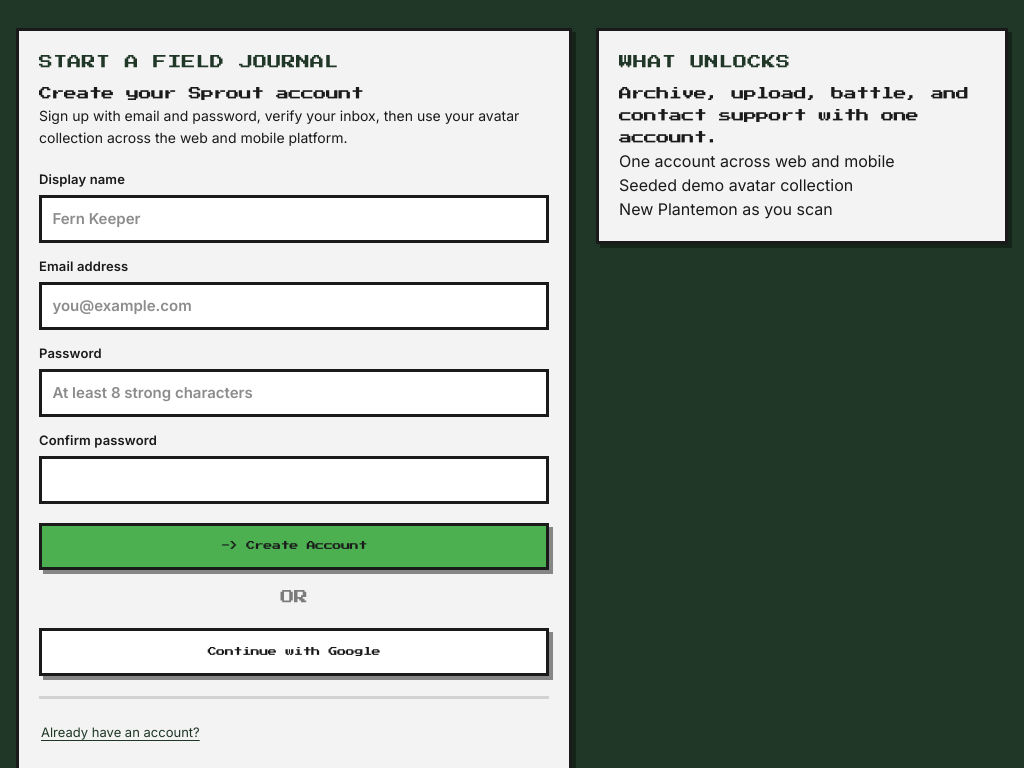
Scenario: SignupPage success screen › confirms the account and points at login
Type "Ada" into the field labelled "Display name". click: (294, 219)
box: left=39, top=195, right=549, bottom=243
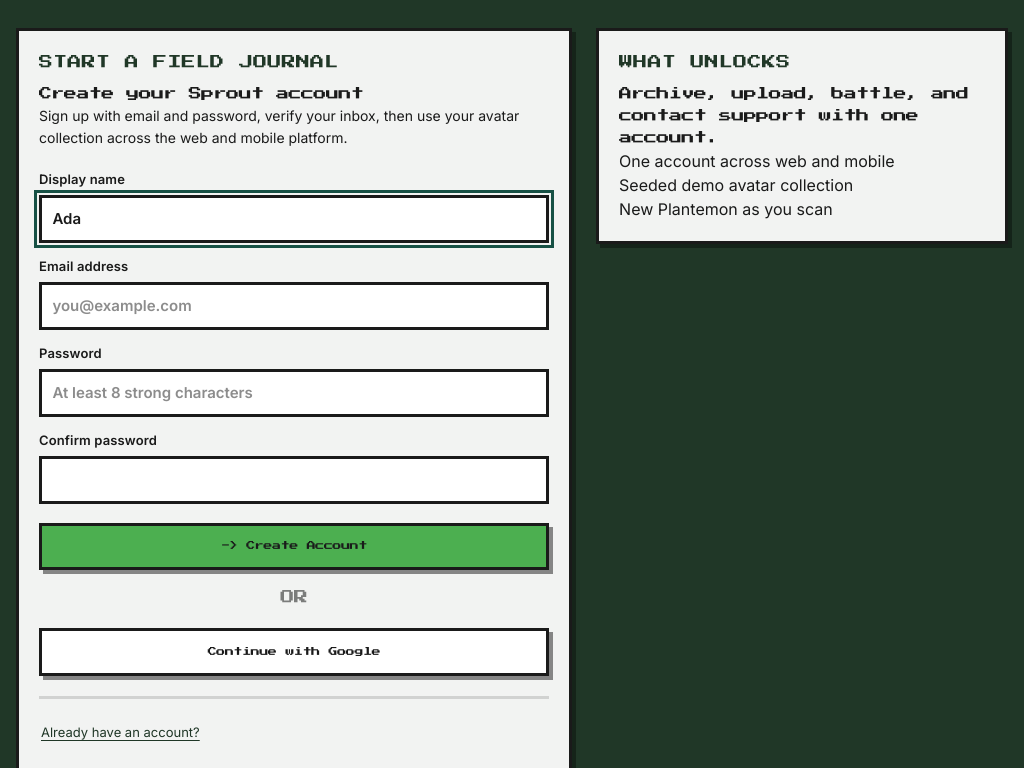
Type "ada@example.com" into the field labelled "Email address". click: (294, 306)
box: left=39, top=282, right=549, bottom=330
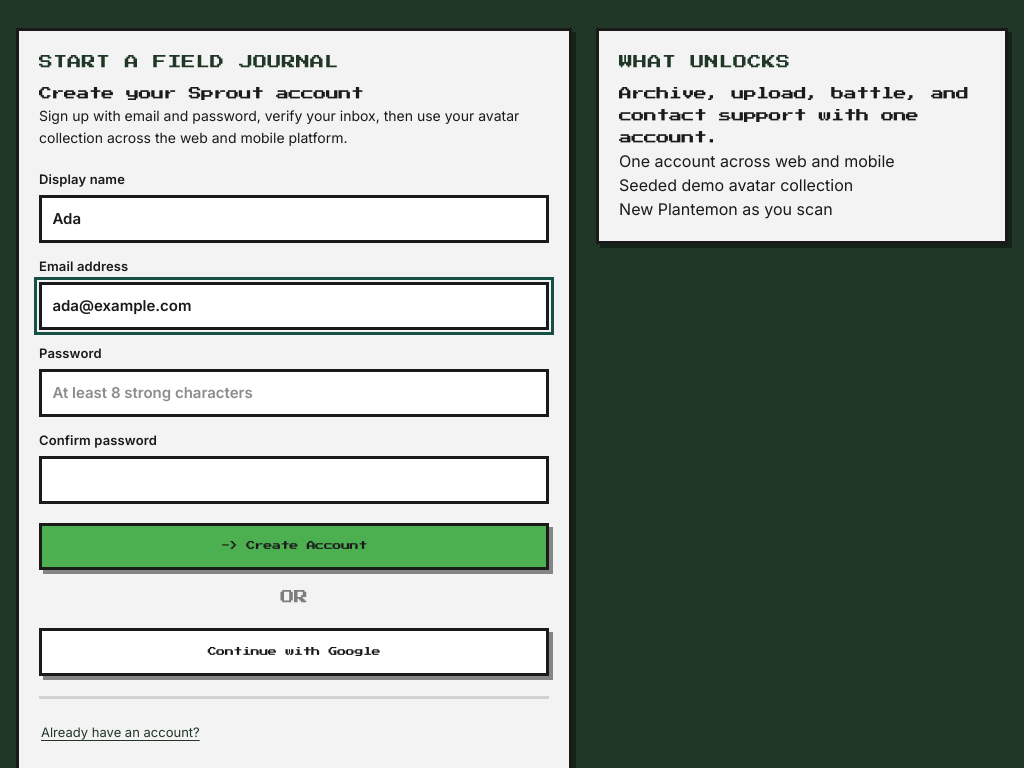
Type "Password123!" into the password field labelled "Password". click: (294, 393)
box: left=39, top=369, right=549, bottom=417
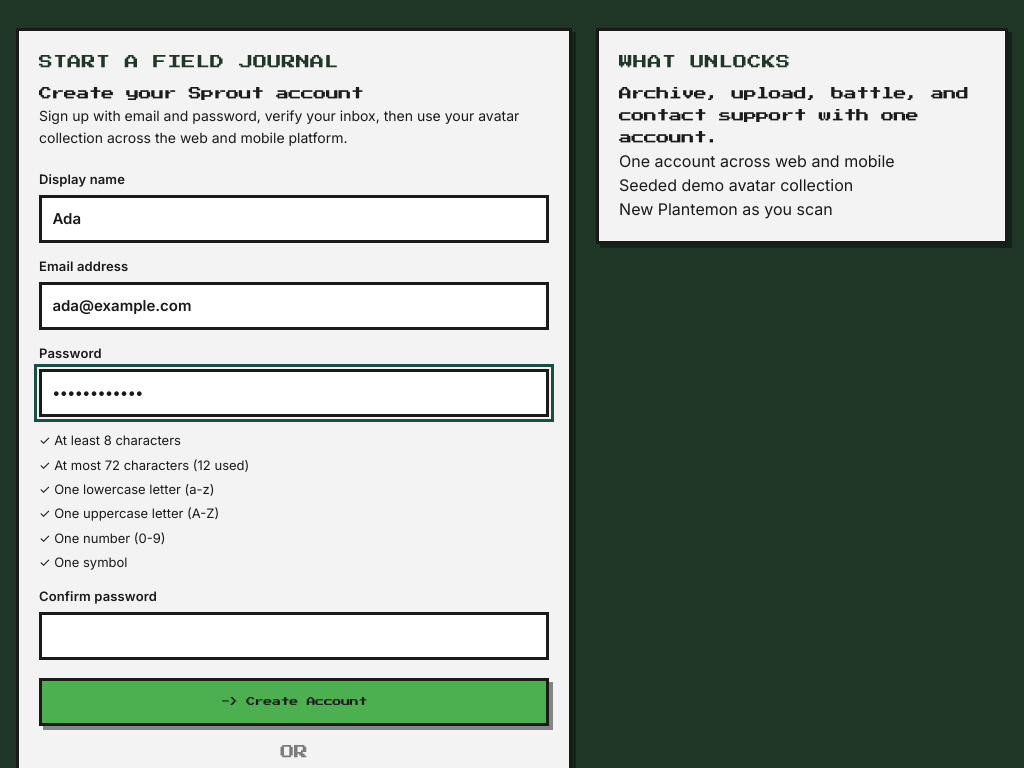
Type "Password123!" into the password field labelled "Confirm password". click: (294, 636)
box: left=39, top=612, right=549, bottom=660
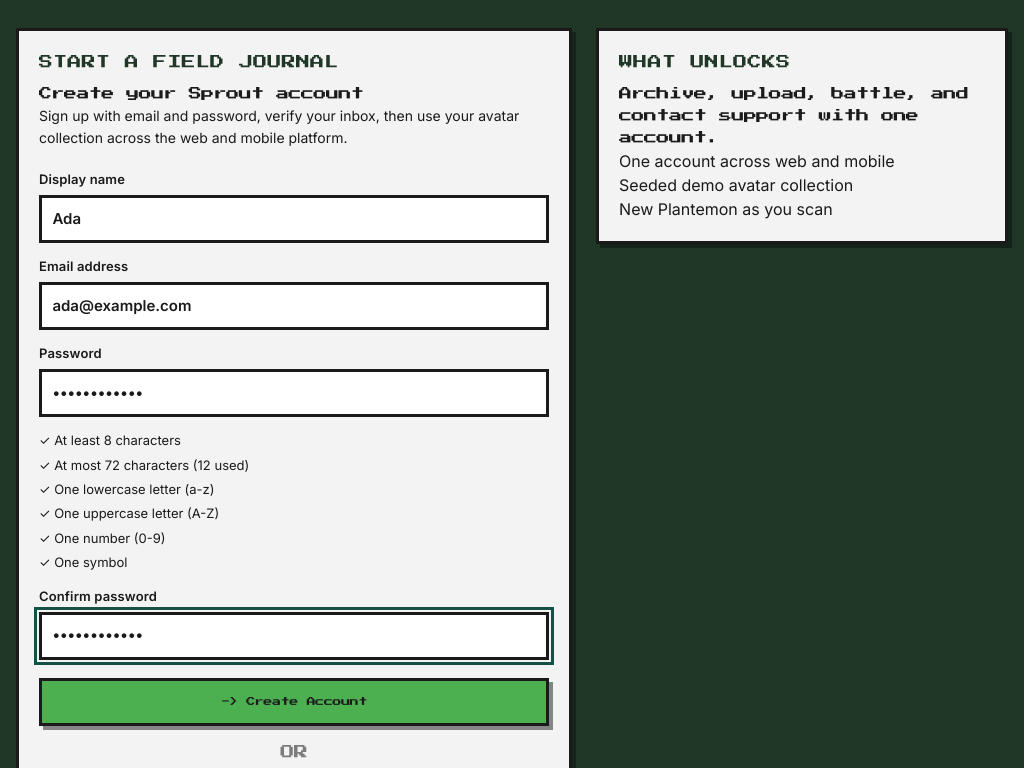
Click the button "-> Create Account". click: click(294, 702)
box: left=39, top=678, right=549, bottom=726
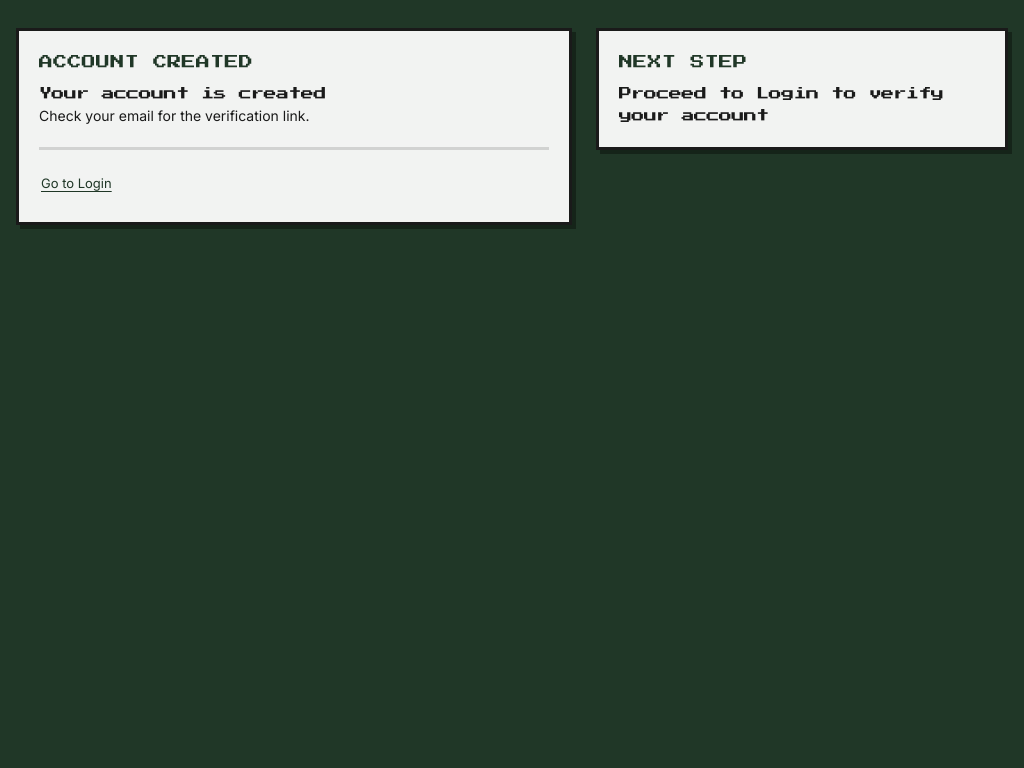
Now the heading "Your account is created" is shown, box left=39, top=87, right=326, bottom=100
Now the heading "Proceed to Login to verify your account" is shown, box left=619, top=83, right=985, bottom=127
